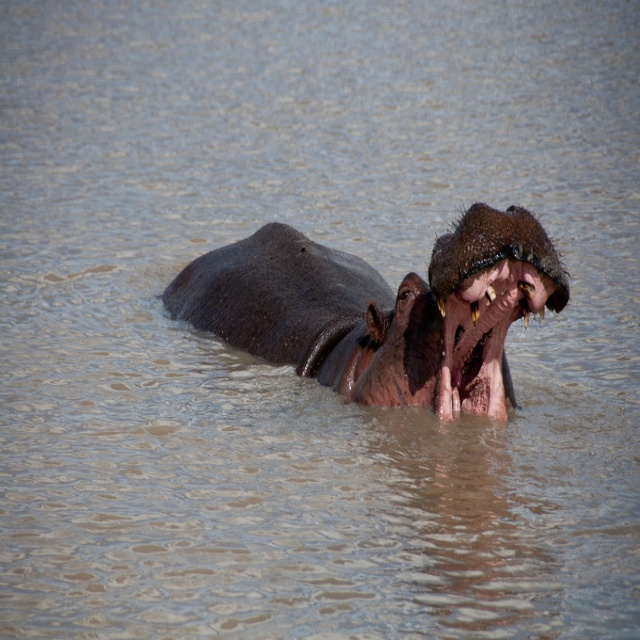Hippopotamus: (158, 200, 571, 424)
